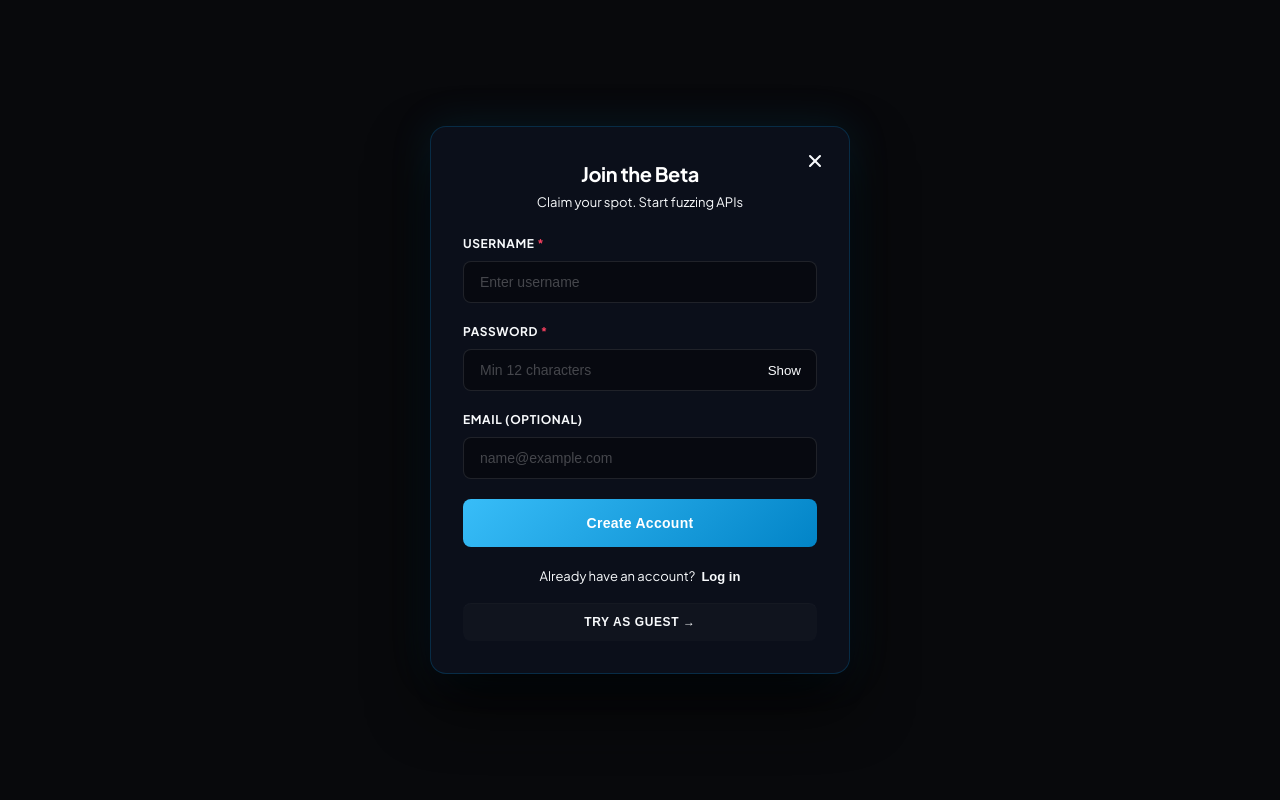
AuthModal Component › can toggle between Sign In and Registration modes
This screenshot has width=1280, height=800.
Step 1. Click the button "Log in" → x=721, y=577, box [701,569,740,584]
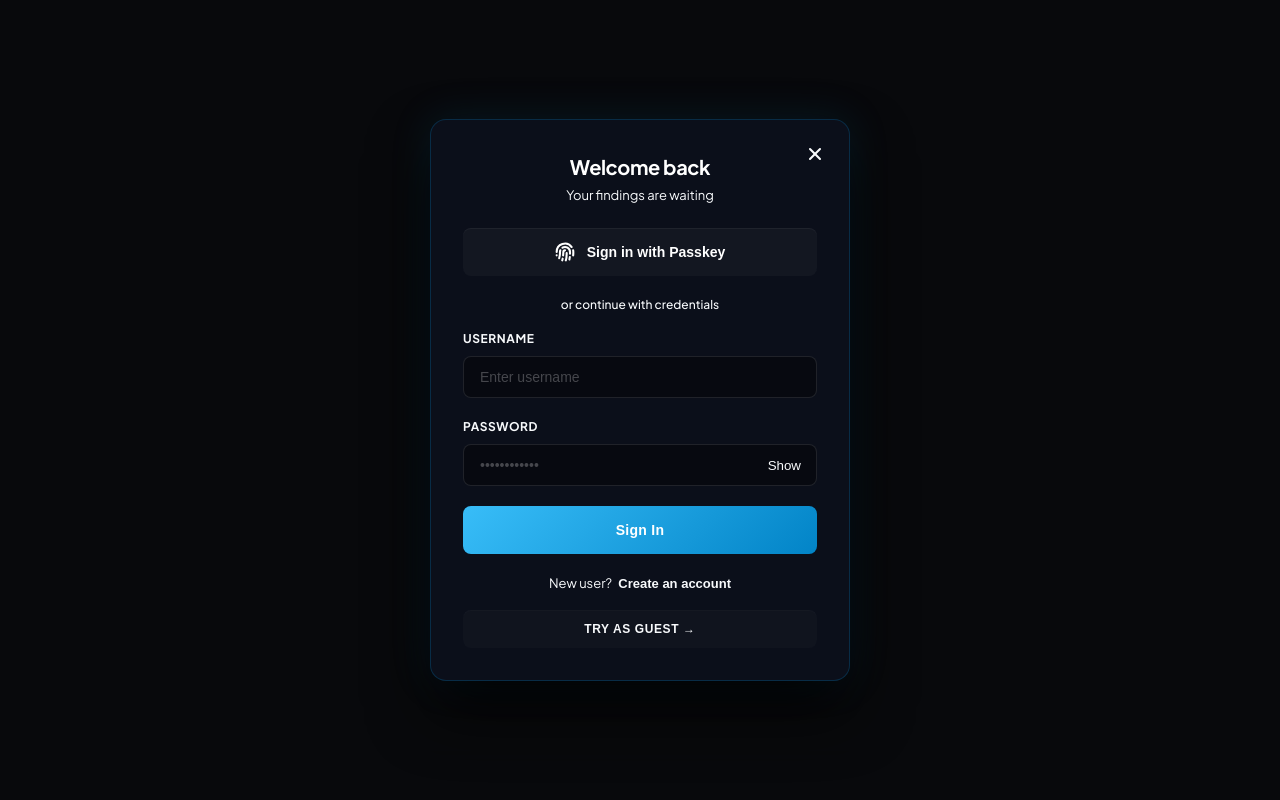
Expected: the heading "Welcome back" is shown, [570,154,710,179]
Step 2. Click the button "Create an account" → x=675, y=584, box [618,576,731,591]
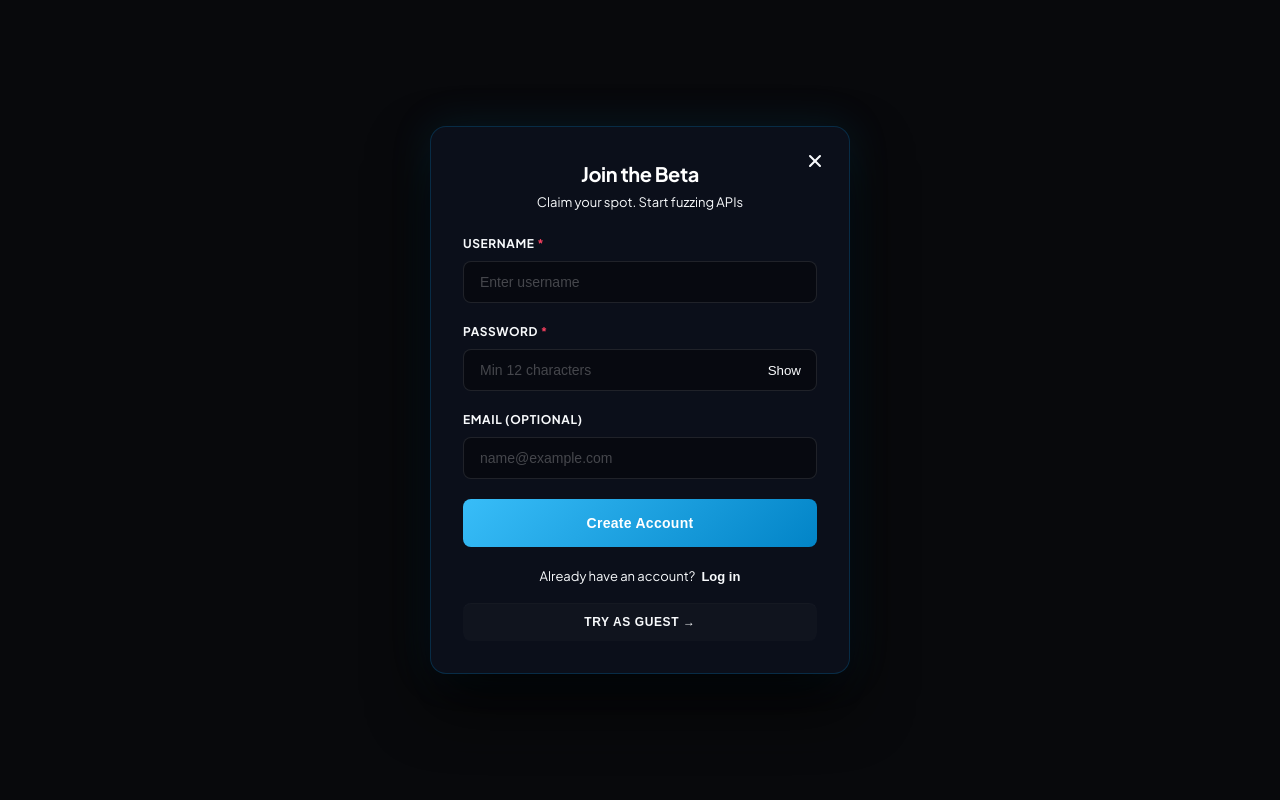
Expected: the heading "Join the Beta" is shown, [581,161,699,186]
